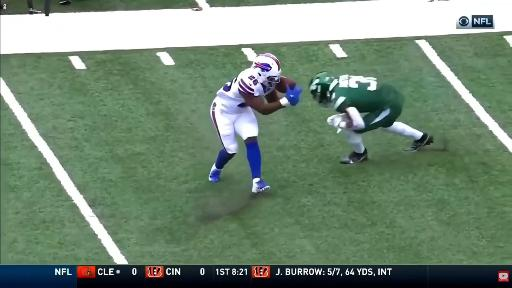Helmet: (252, 53, 281, 87), (310, 72, 334, 106)
Jersey: (330, 75, 403, 113), (217, 69, 275, 113)
Player: (209, 54, 301, 193), (310, 72, 433, 163)
